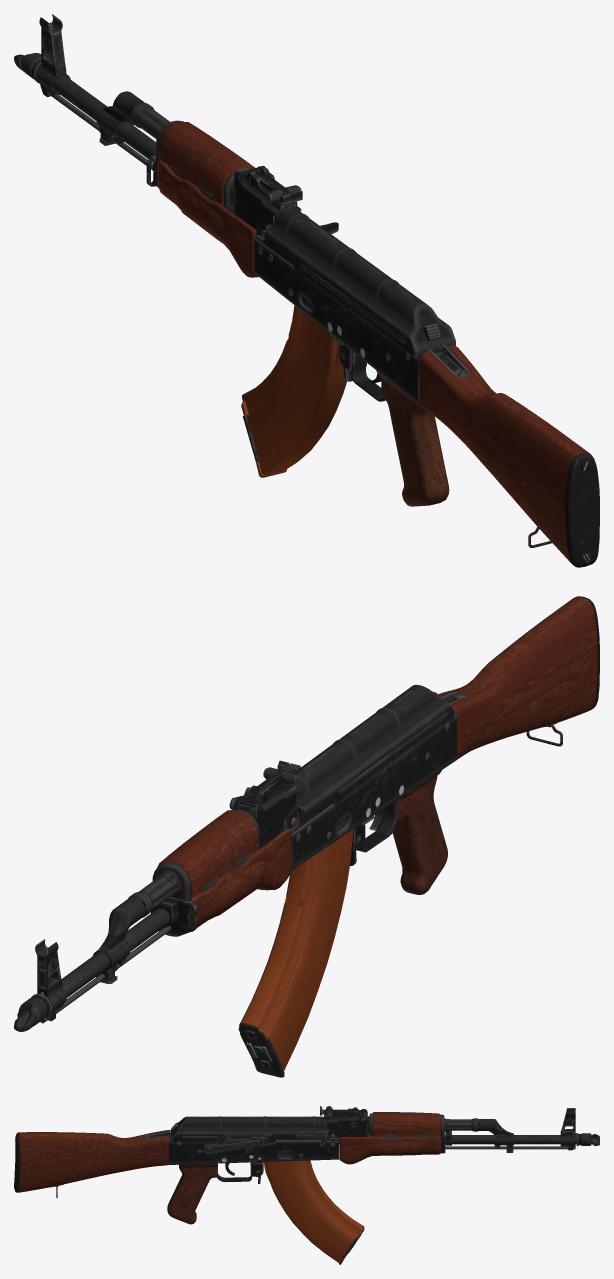
The picture shows the model from 3 angles, top to bottom: view 1: azimuth 30°, elevation 25°; view 2: azimuth 150°, elevation 25°; view 3: azimuth 270°, elevation 25°; orthographic projection. The views are drawn at different scales.
Visible parts, largest first — view 1: AKM_wooden_furniture, AKM_body, AKM_bakelite_mag30rds; view 2: AKM_body, AKM_wooden_furniture, AKM_bakelite_mag30rds; view 3: AKM_body, AKM_wooden_furniture, AKM_bakelite_mag30rds.
Part boxes in pixels (x1=…): AKM_wooden_furniture: x1=157, y1=122, x2=599, y2=567; AKM_body: x1=14, y1=14, x2=470, y2=404; AKM_bakelite_mag30rds: x1=241, y1=305, x2=347, y2=477; AKM_body: x1=14, y1=684, x2=469, y2=1031; AKM_wooden_furniture: x1=157, y1=596, x2=599, y2=934; AKM_bakelite_mag30rds: x1=238, y1=829, x2=353, y2=1077; AKM_body: x1=141, y1=1106, x2=599, y2=1183; AKM_wooden_furniture: x1=14, y1=1112, x2=440, y2=1224; AKM_bakelite_mag30rds: x1=263, y1=1160, x2=364, y2=1264.
Size of the model in its own units: 0.0682 by 0.2588 by 0.8953.
3 materials, 3 textured.
